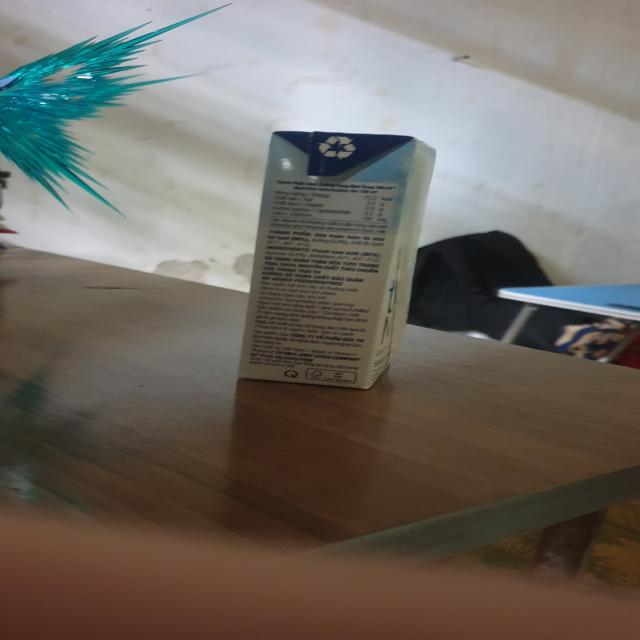TH: (235, 133, 443, 390)
